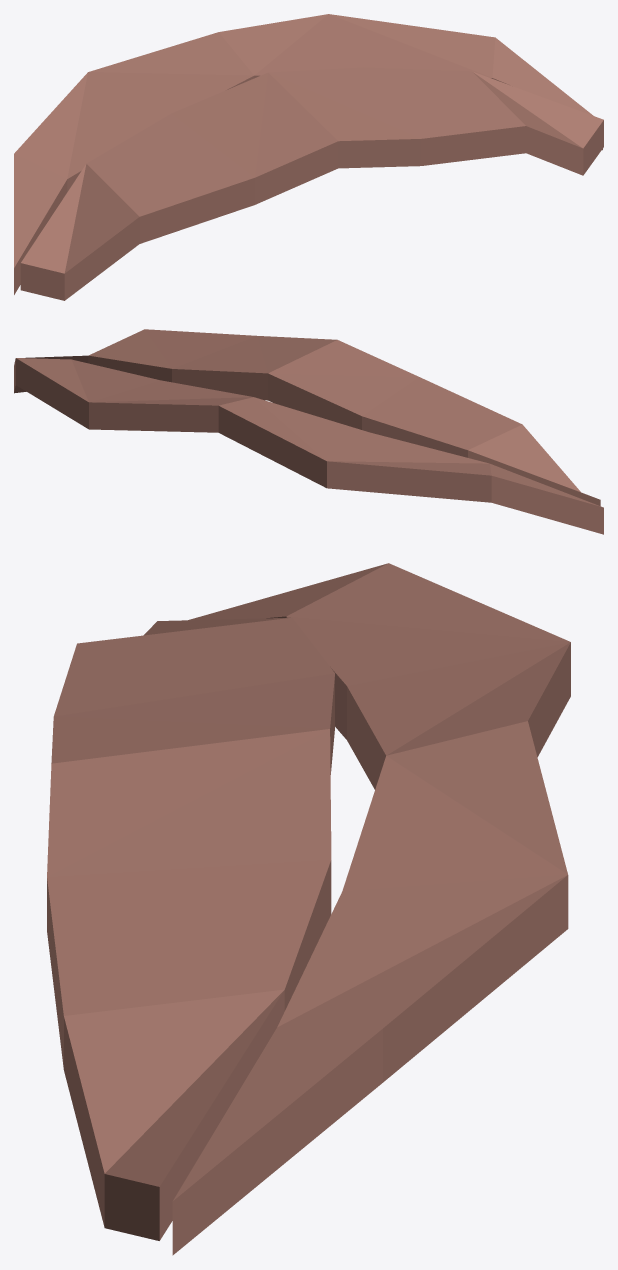
The model's file is Mouth 01.FBX.
3 views of the same model, one above another, from view 1: azimuth 30°, elevation 25°; view 2: azimuth 150°, elevation 25°; view 3: azimuth 270°, elevation 25° (orthographic). The views are drawn at different scales.
Parts seen in each view (by area): view 1: Mouth 01; view 2: Mouth 01; view 3: Mouth 01.
Part boxes in pixels (x1=…): Mouth 01: x1=14, y1=14, x2=603, y2=300; Mouth 01: x1=14, y1=329, x2=603, y2=534; Mouth 01: x1=47, y1=563, x2=570, y2=1255.
Size of the model in its own units: 6.59 by 2.54 by 1.37.
1 material, 1 textured.
